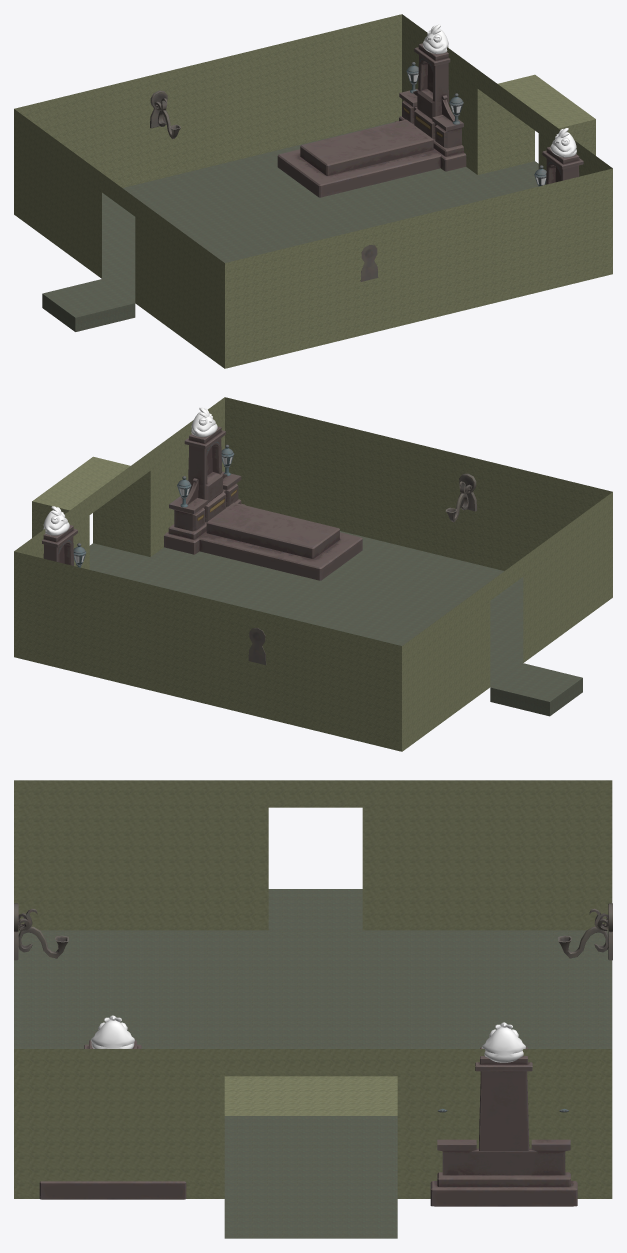
File: 02_HuntingLevel1.fbx
The picture shows the model from 3 angles, top to bottom: view 1: azimuth 30°, elevation 25°; view 2: azimuth 150°, elevation 25°; view 3: azimuth 270°, elevation 25°; orthographic projection. The views are drawn at different scales.
Parts seen in each view (by area): view 1: ROOM_Enter__1_, graveTop_1, RoyalGraveStatic, pillar_1, graveStructure_1, pillar, graveStatue, graveStatue_1, Lantern_WallAttatch__1_; view 2: ROOM_Enter__1_, RoyalGraveStatic__1_, graveTop, pillar, graveStructure, pillar_1, graveStatue, graveStatue_1, Lantern_WallAttatch__2_; view 3: ROOM_Enter__1_, RoyalGraveStatic, pillar_1, graveStructure_1, RoyalGraveStatic__1_, graveStatue_1, graveStatue, torch2, torch2_1.
Part boxes in pixels (x1,y1,x2,y2): ROOM_Enter__1_: [14, 14, 612, 368]; graveTop_1: [300, 119, 433, 175]; RoyalGraveStatic: [277, 116, 466, 197]; pillar_1: [414, 43, 450, 119]; graveStructure_1: [399, 89, 463, 148]; pillar: [542, 146, 583, 184]; graveStatue: [550, 128, 576, 157]; graveStatue_1: [422, 24, 448, 53]; Lantern_WallAttatch__1_: [360, 245, 378, 281]; ROOM_Enter__1_: [14, 397, 612, 751]; RoyalGraveStatic__1_: [164, 499, 362, 580]; graveTop: [206, 502, 339, 558]; pillar: [184, 426, 225, 502]; graveStructure: [169, 471, 241, 531]; pillar_1: [42, 525, 77, 565]; graveStatue: [191, 407, 217, 437]; graveStatue_1: [43, 506, 69, 535]; Lantern_WallAttatch__2_: [248, 628, 266, 665]; ROOM_Enter__1_: [14, 780, 612, 1238]; RoyalGraveStatic: [430, 1172, 577, 1206]; pillar_1: [475, 1047, 532, 1150]; graveStructure_1: [437, 1139, 570, 1175]; RoyalGraveStatic__1_: [39, 1181, 186, 1199]; graveStatue_1: [482, 1022, 525, 1062]; graveStatue: [91, 1015, 134, 1048]; torch2: [18, 926, 68, 958]; torch2_1: [558, 926, 608, 958].
Size of the model in its own units: 5500 by 1433 by 3981.
